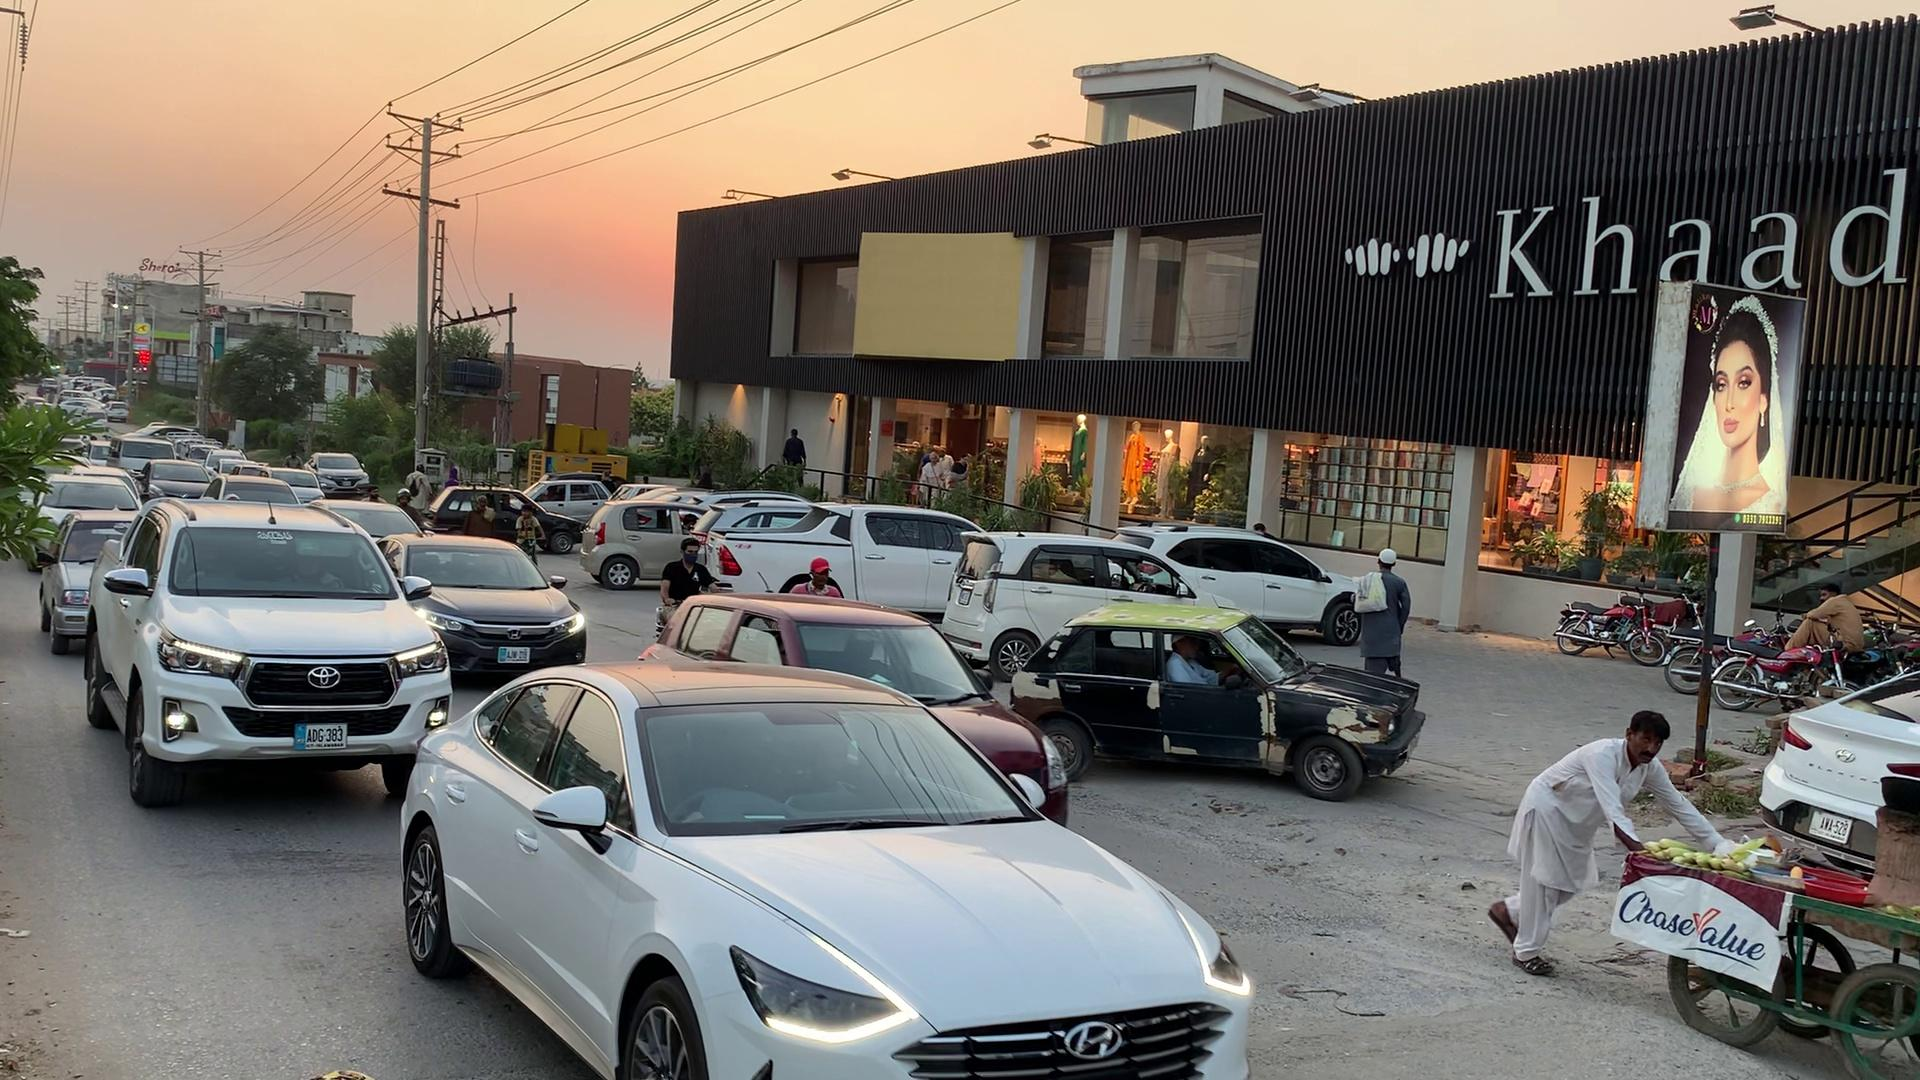windshield: (617, 694, 1054, 836), (166, 506, 409, 607)
